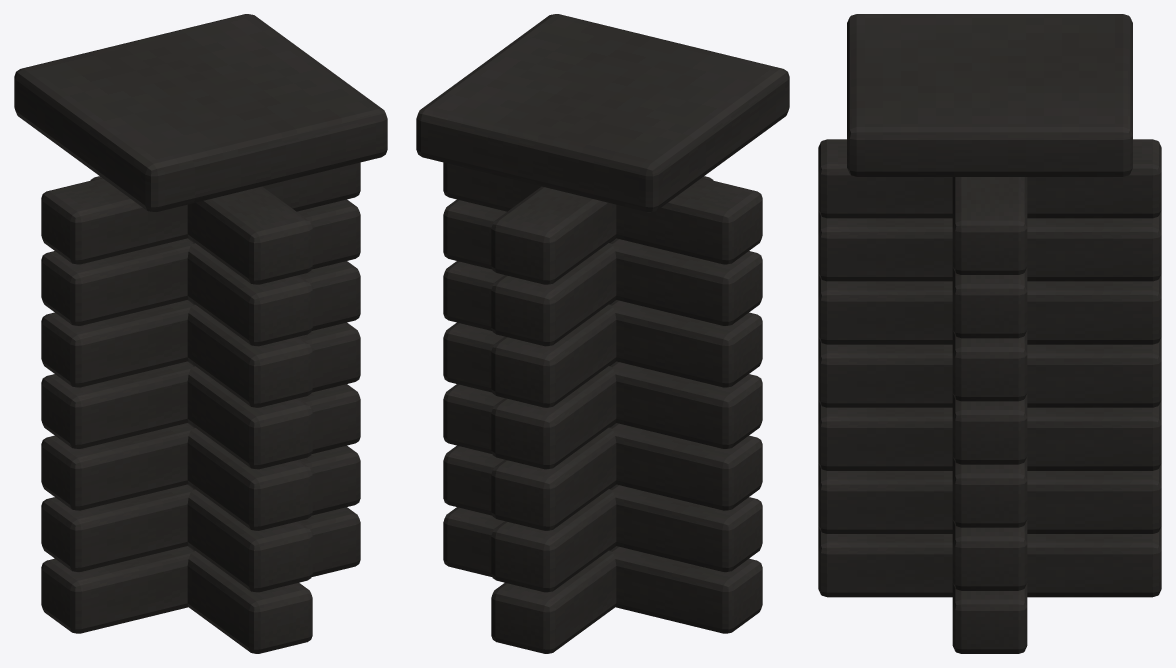
Rendered from prop_town_chimney.glb.
The picture shows the model from 3 angles, left to right: view 1: azimuth 30°, elevation 25°; view 2: azimuth 150°, elevation 25°; view 3: azimuth 270°, elevation 25°; orthographic projection. The views are drawn at different scales.
Parts seen in each view (by area): view 1: stone; view 2: stone; view 3: stone.
Boxes of the visible parts, x1=… form: stone: x1=14, y1=14, x2=387, y2=653; stone: x1=416, y1=14, x2=789, y2=653; stone: x1=818, y1=14, x2=1161, y2=653.
Size of the model in its own units: 1.38 by 2.28 by 1.38.
1 material, 1 textured.
